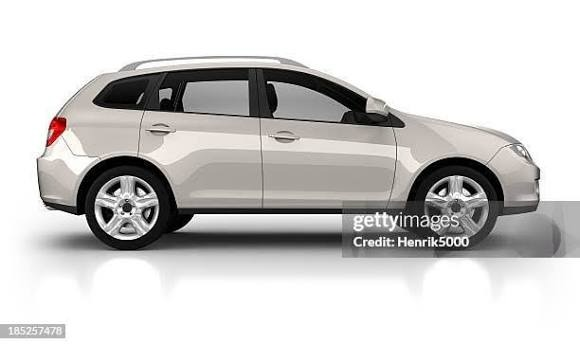car: (39, 57, 562, 245)
